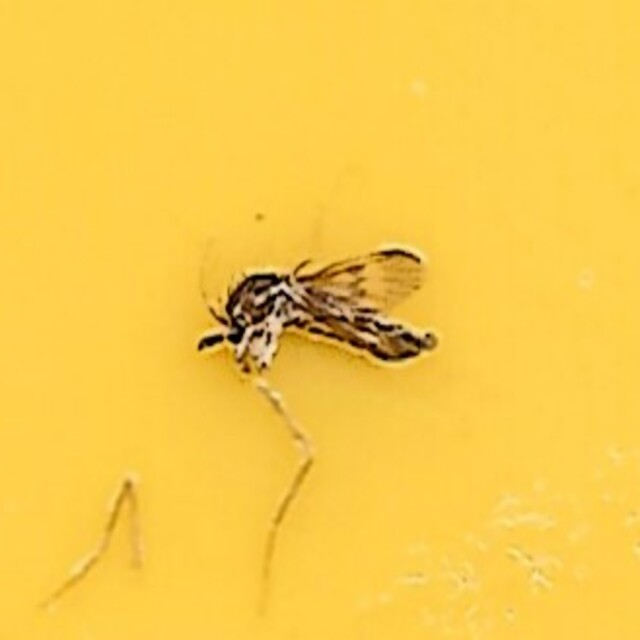Nematocera: (195, 237, 445, 403)
